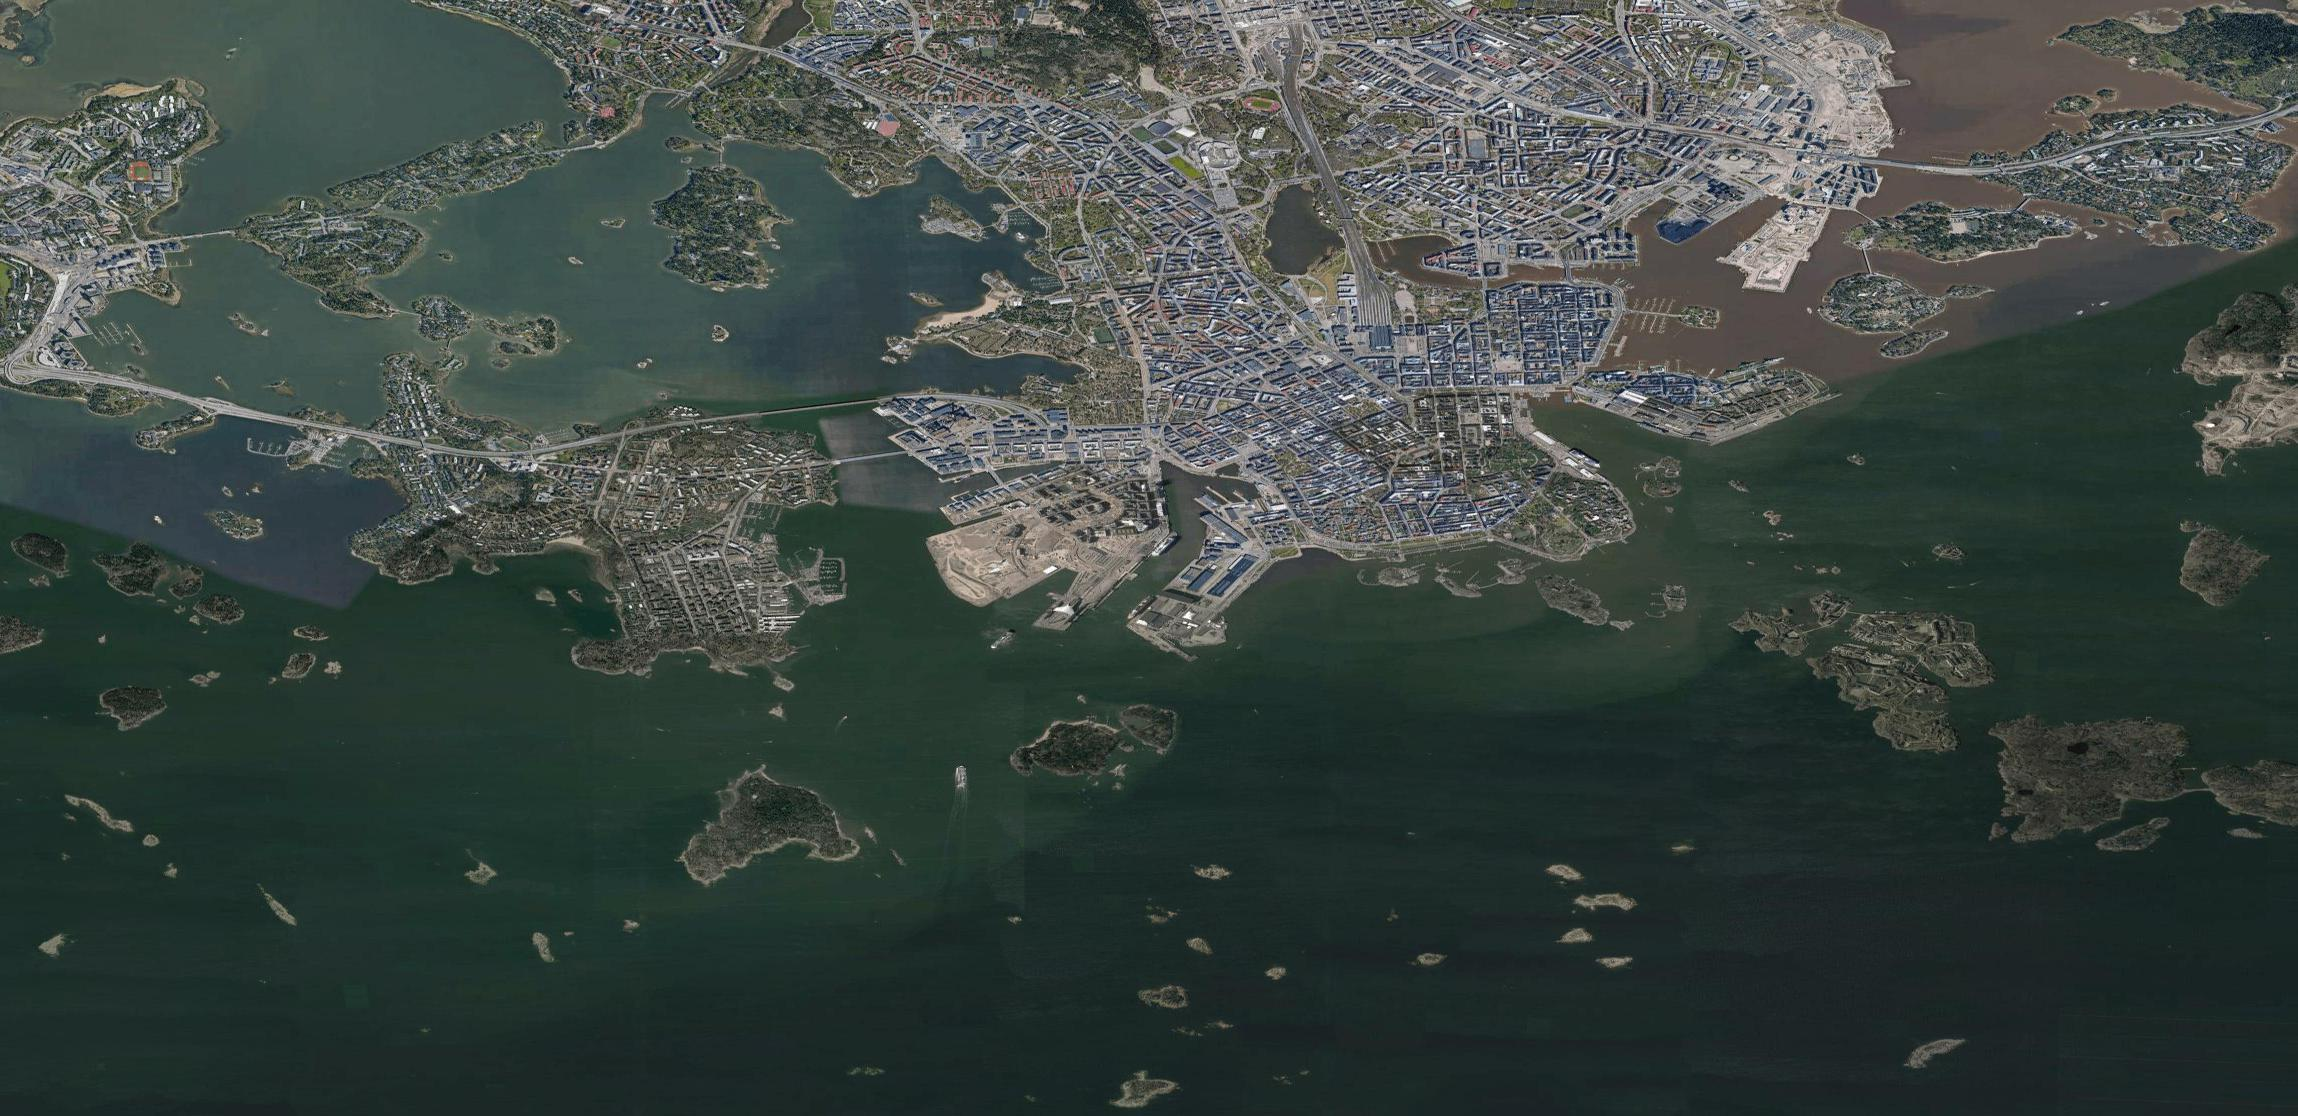bridge: (750, 392, 873, 422), (1874, 155, 1992, 180), (832, 447, 906, 466)
harbor: (907, 480, 1269, 670), (1518, 378, 1660, 491), (794, 537, 851, 614)
motorway: (574, 412, 747, 455), (120, 378, 273, 421), (273, 412, 425, 455), (756, 383, 939, 416), (425, 438, 572, 463)
train_station: (1350, 283, 1407, 353)
